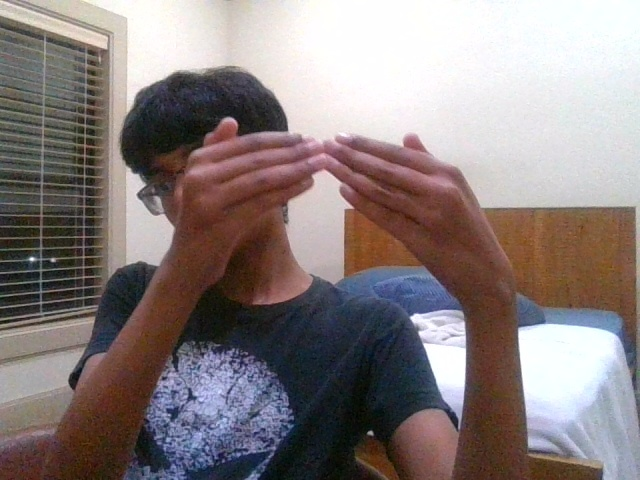thanks: (177, 117, 512, 308)
